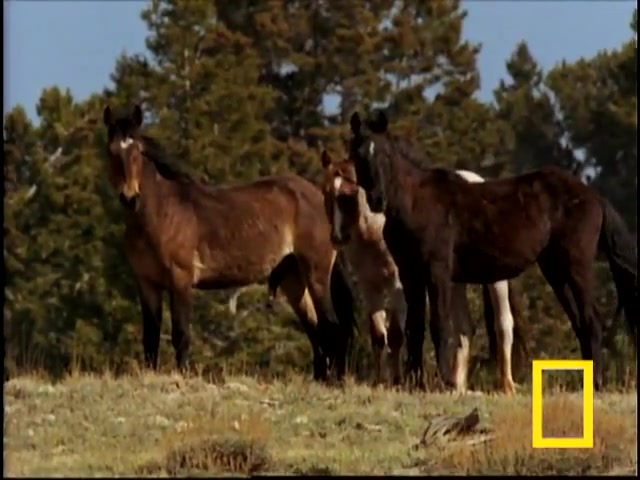horse: (104, 108, 355, 387)
